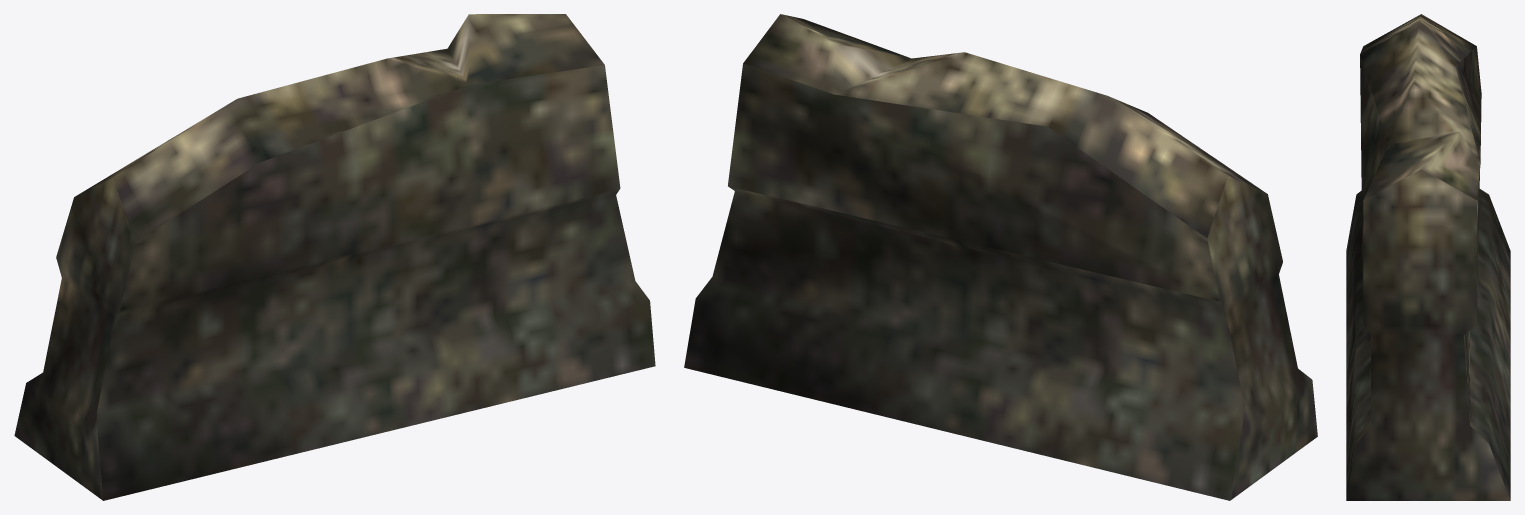
Rendered from b_general_obj_17_01.fbx.
3 views of the same model, side by side, from view 1: azimuth 30°, elevation 25°; view 2: azimuth 150°, elevation 25°; view 3: azimuth 270°, elevation 25° (orthographic). The views are drawn at different scales.
Parts seen in each view (by area): view 1: Object01; view 2: Object01; view 3: Object01.
Boxes of the visible parts, bbox=[...] form: Object01: bbox=[14, 14, 655, 500]; Object01: bbox=[684, 14, 1317, 500]; Object01: bbox=[1346, 14, 1510, 500].
Size of the model in its own units: 1.86 by 1.09 by 0.5184.
